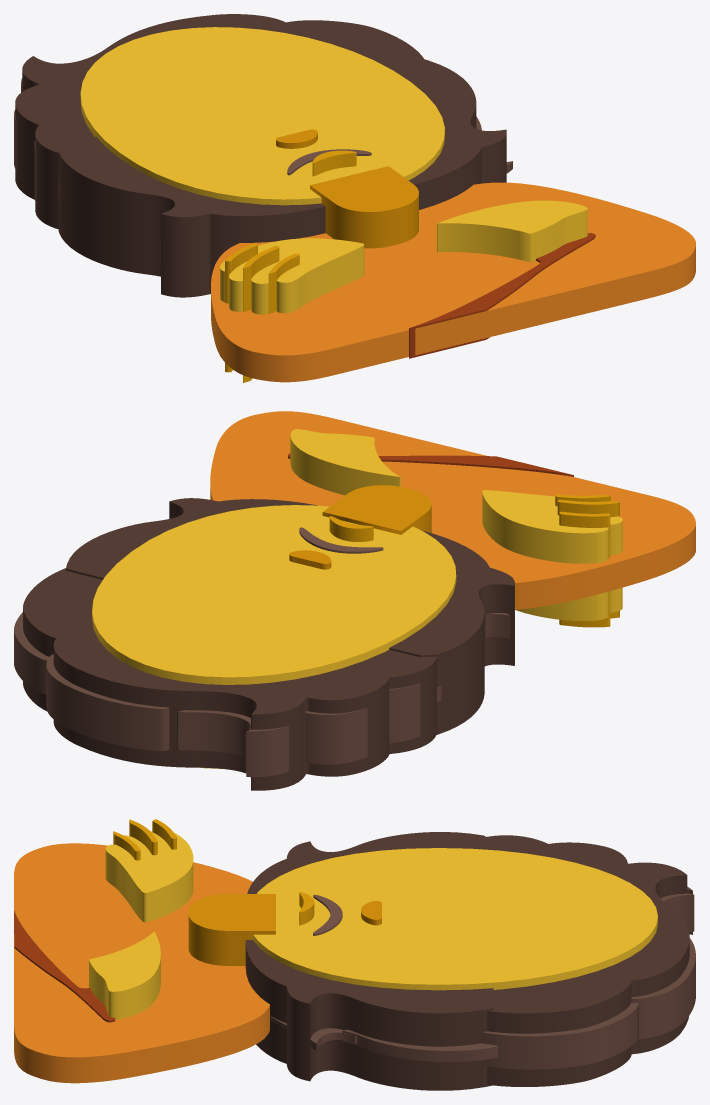
File: emoji_u1f64e.glb
3 renders of one model, top to bottom at view 1: azimuth 30°, elevation 25°; view 2: azimuth 150°, elevation 25°; view 3: azimuth 270°, elevation 25°, orthographic. The views are drawn at different scales.
Parts seen in each view (by area): view 1: emoji_u1f64e; view 2: emoji_u1f64e; view 3: emoji_u1f64e.
Boxes of the visible parts, x1=… form: emoji_u1f64e: x1=14, y1=14, x2=695, y2=382; emoji_u1f64e: x1=14, y1=411, x2=695, y2=790; emoji_u1f64e: x1=14, y1=819, x2=695, y2=1090.
Bounding box in the file's own units: 0.0249 × 0.0062 × 0.0335.
